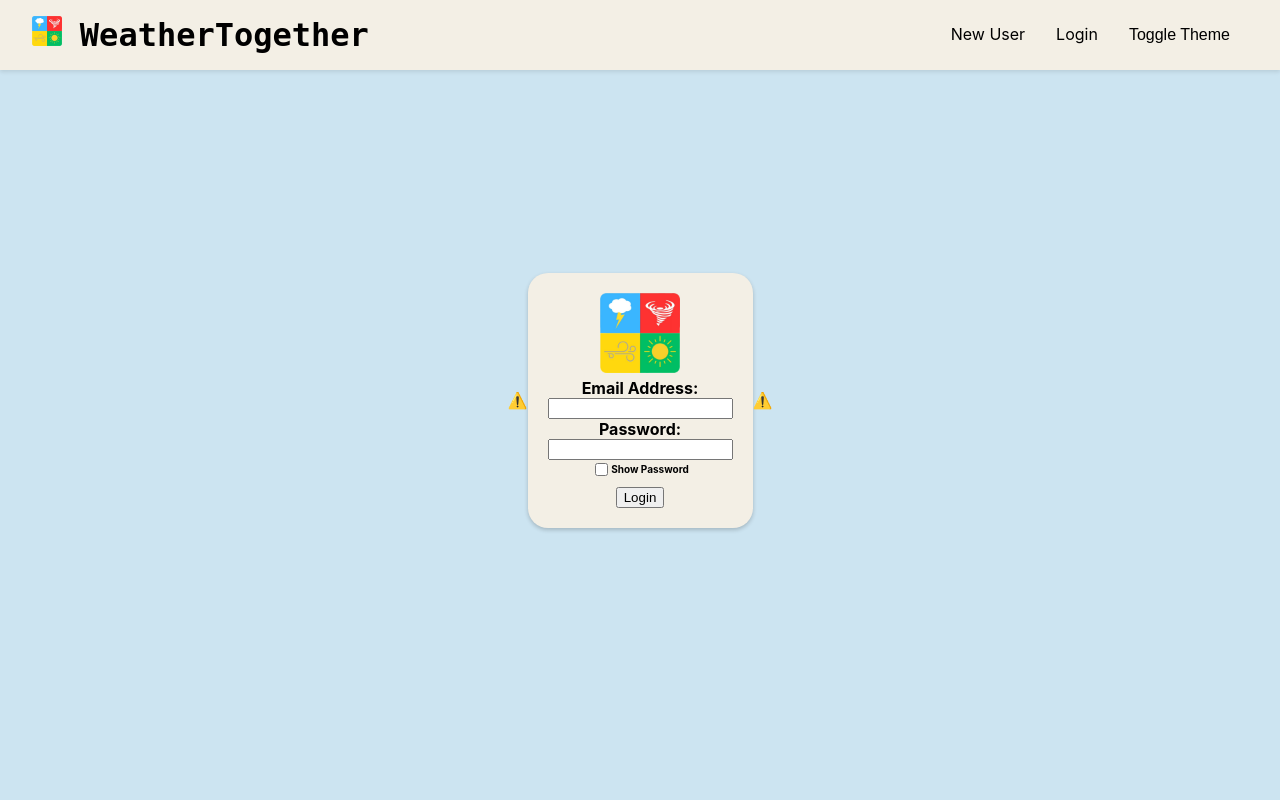
Scenario: Should display Login page with Nav and input fields › should update DOM if login fails due to email verification
This screenshot has width=1280, height=800.
Type "user6@gmail.com" into the field with class "email" at (641, 409), box x1=548 y1=398 x2=733 y2=419
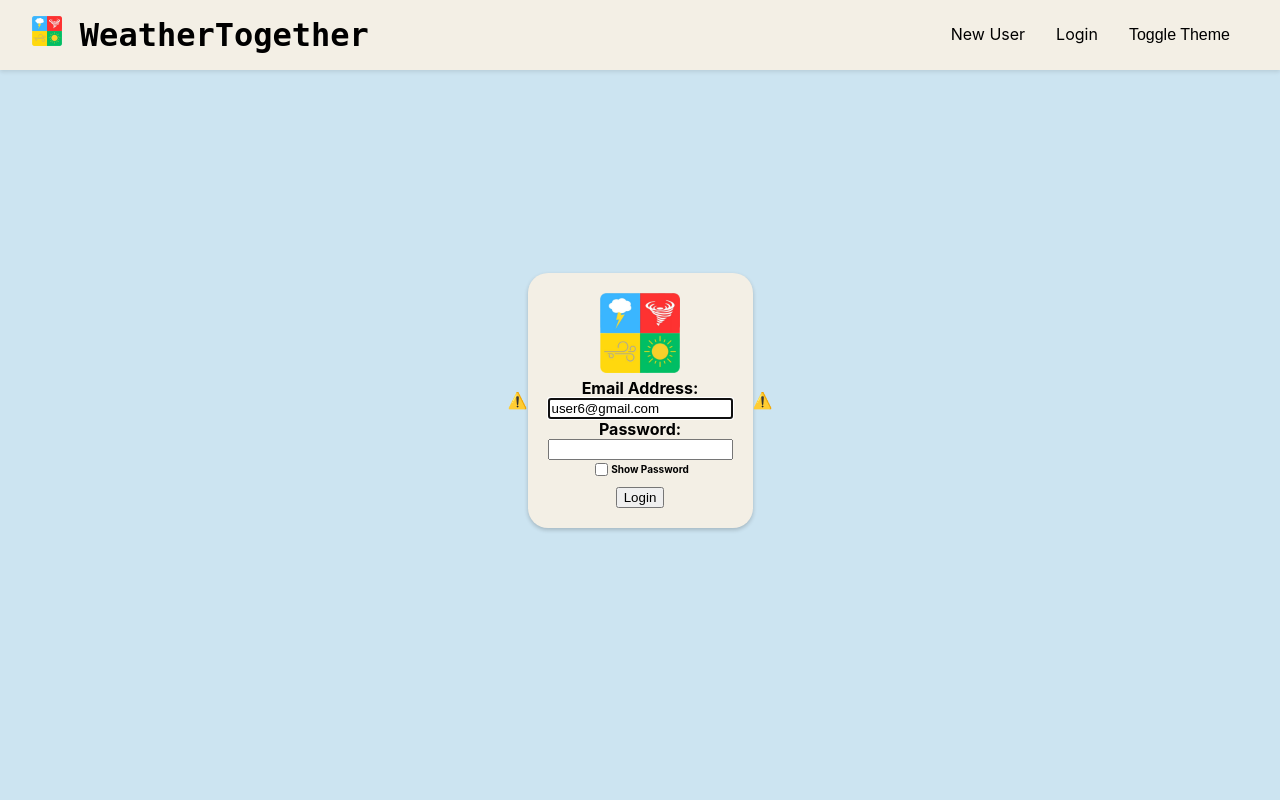
Type "password6" into the password field labelled "Password:" at (641, 450), box x1=548 y1=439 x2=733 y2=460
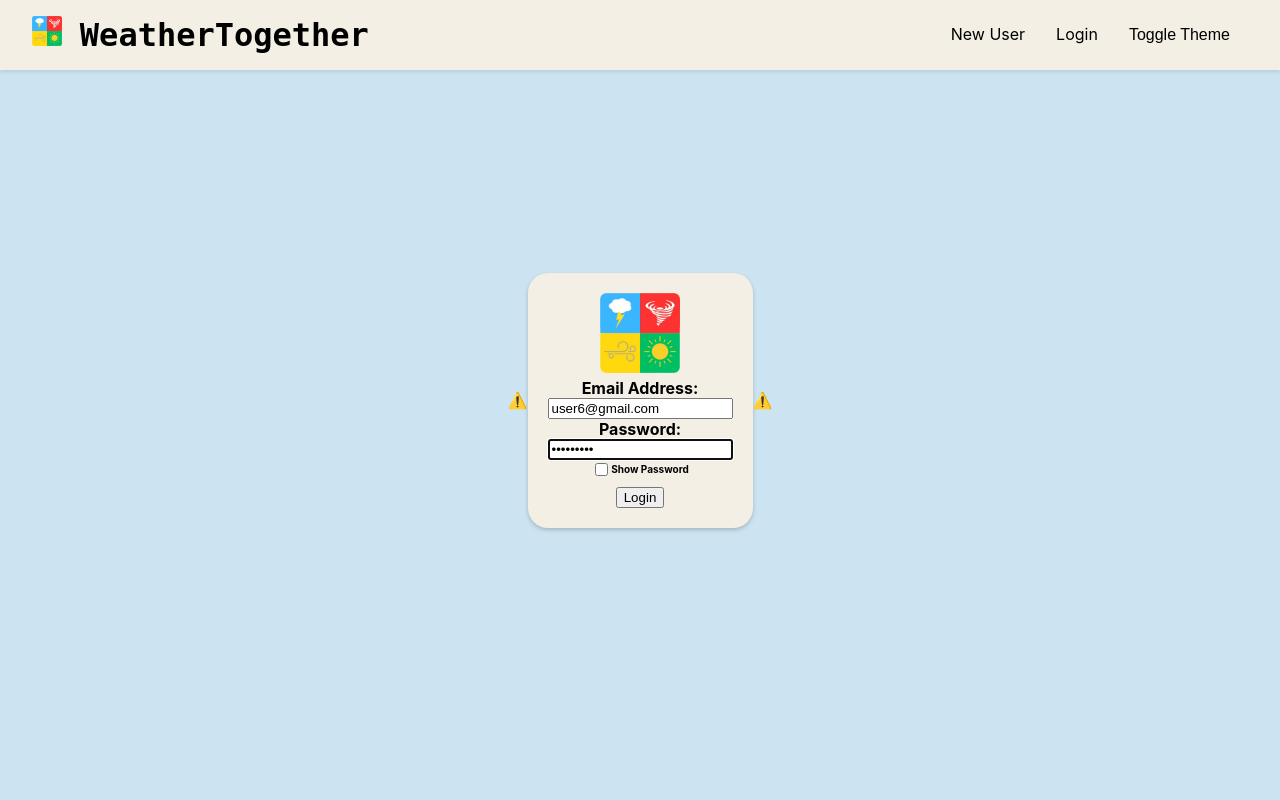
Click the button with class "login-button" at (641, 498), box x1=616 y1=487 x2=665 y2=508
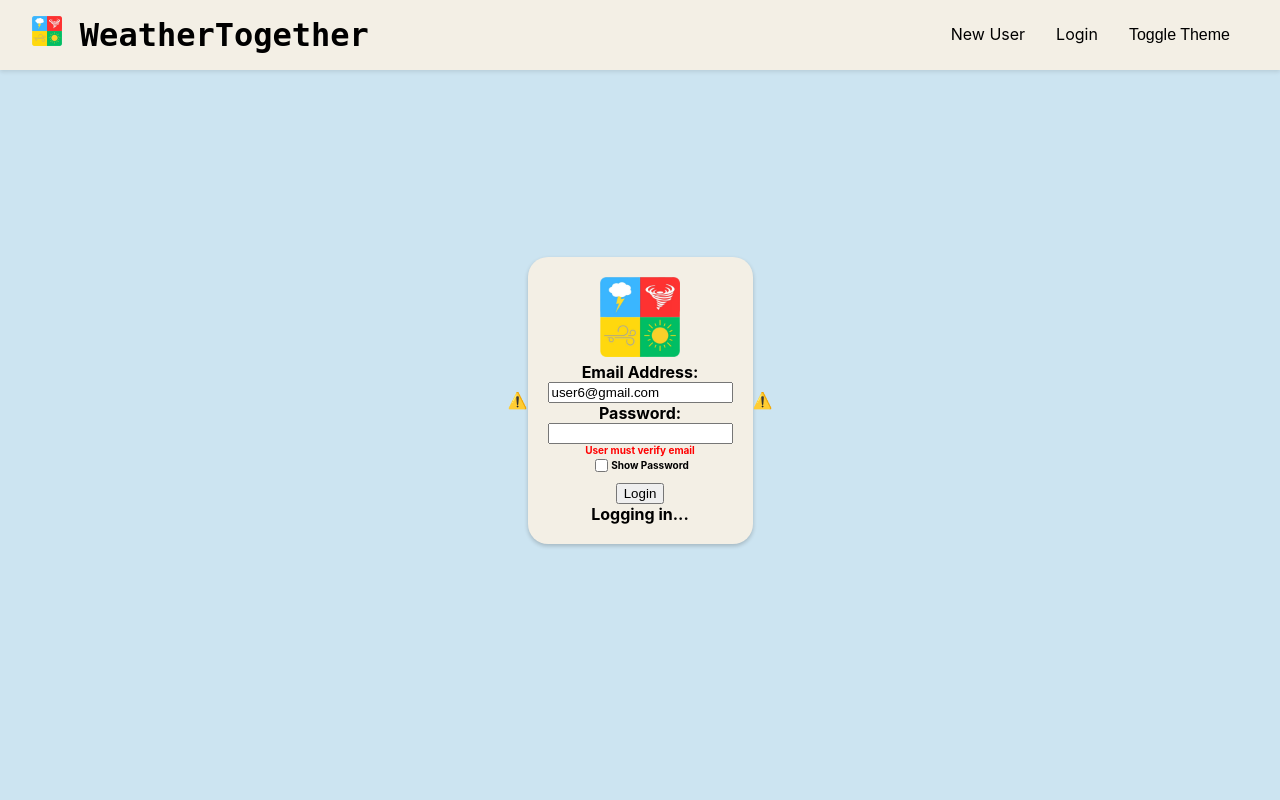
Expected: the label with class "login-fail" reads "User must verify email", x1=585 y1=444 x2=695 y2=456
